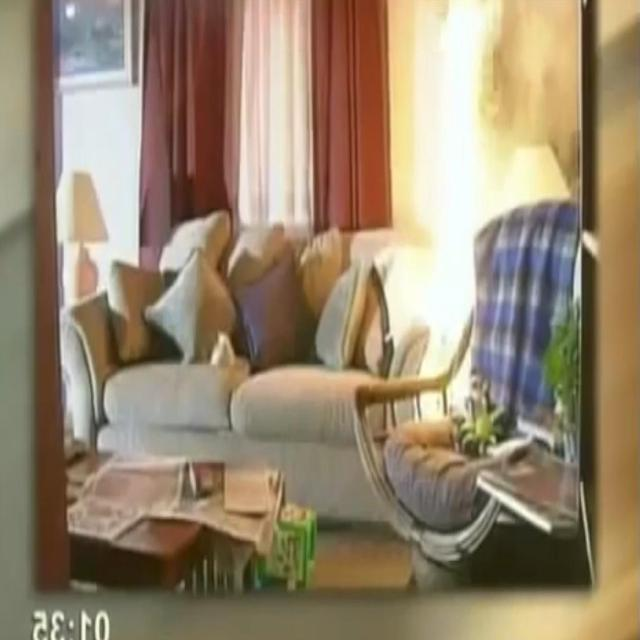smoke: (416, 0, 508, 409)
